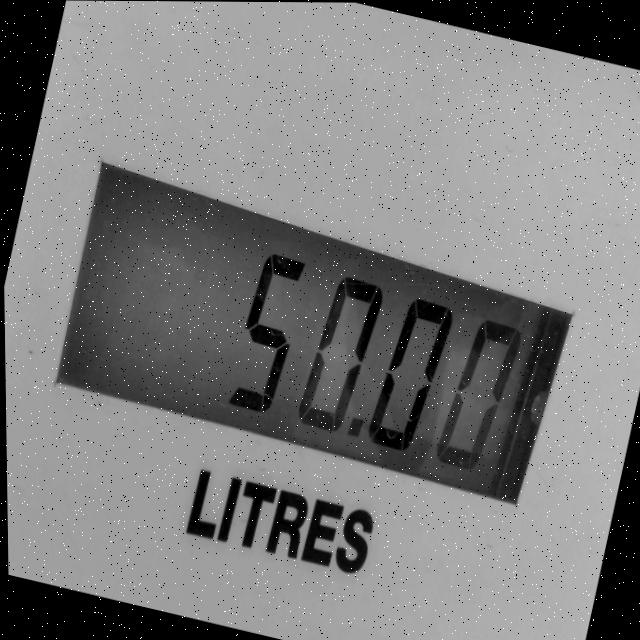.: (340, 405, 374, 452)
0: (284, 263, 389, 458), (355, 290, 465, 464), (425, 308, 523, 487)
5: (203, 238, 319, 431)
